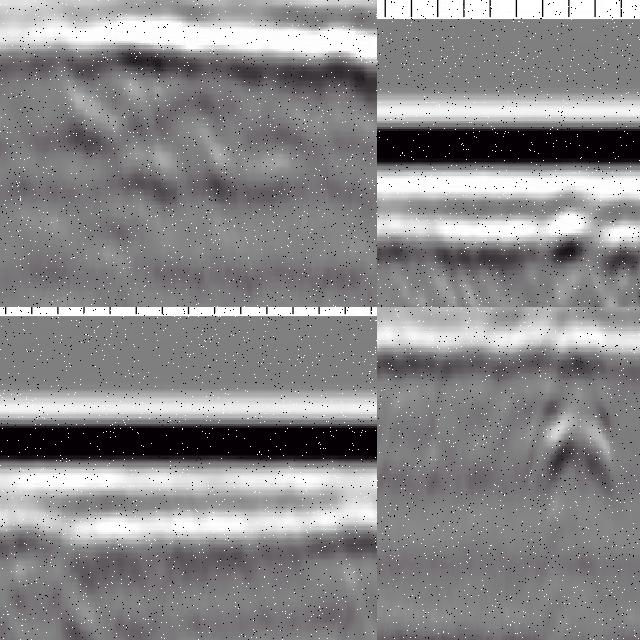loose: (74, 56, 329, 218), (398, 195, 640, 308), (536, 334, 616, 490)
